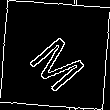M_NE: (21, 21, 89, 89)
